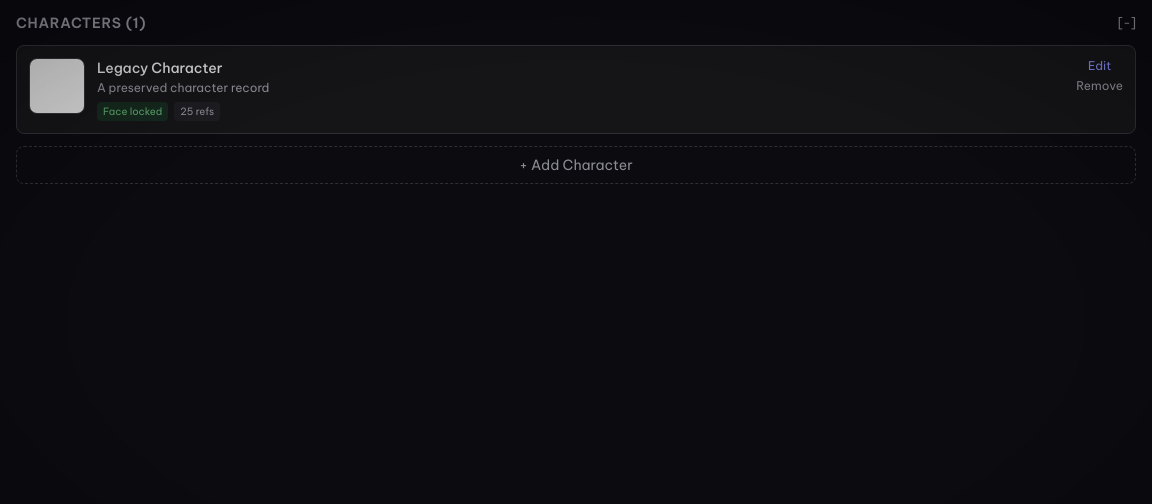
Test: CharacterPanel accessibility › keeps character actions keyboard-visible and labels every edit control
The width and height of the screenshot is (1152, 504).
Expected: the button "Remove" is shown, [1076,78,1123,94]
Step 1. Click the button "Edit" → (1100, 66), box [1076,58,1123,74]
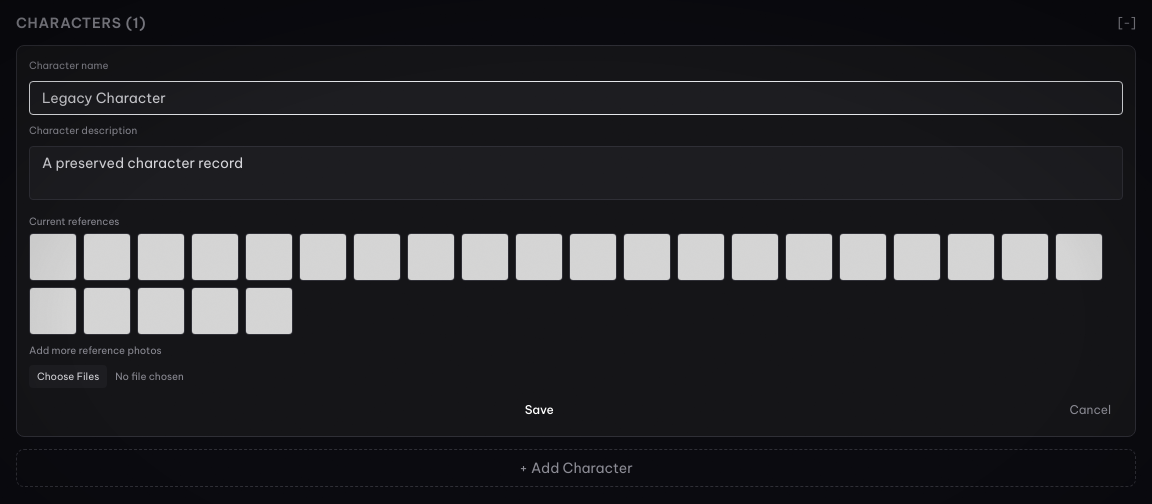
Expected: the field labelled "Character name" is shown, [29,81,1123,115]
Expected: the text box labelled "Character description" is shown, [29,146,1123,200]
